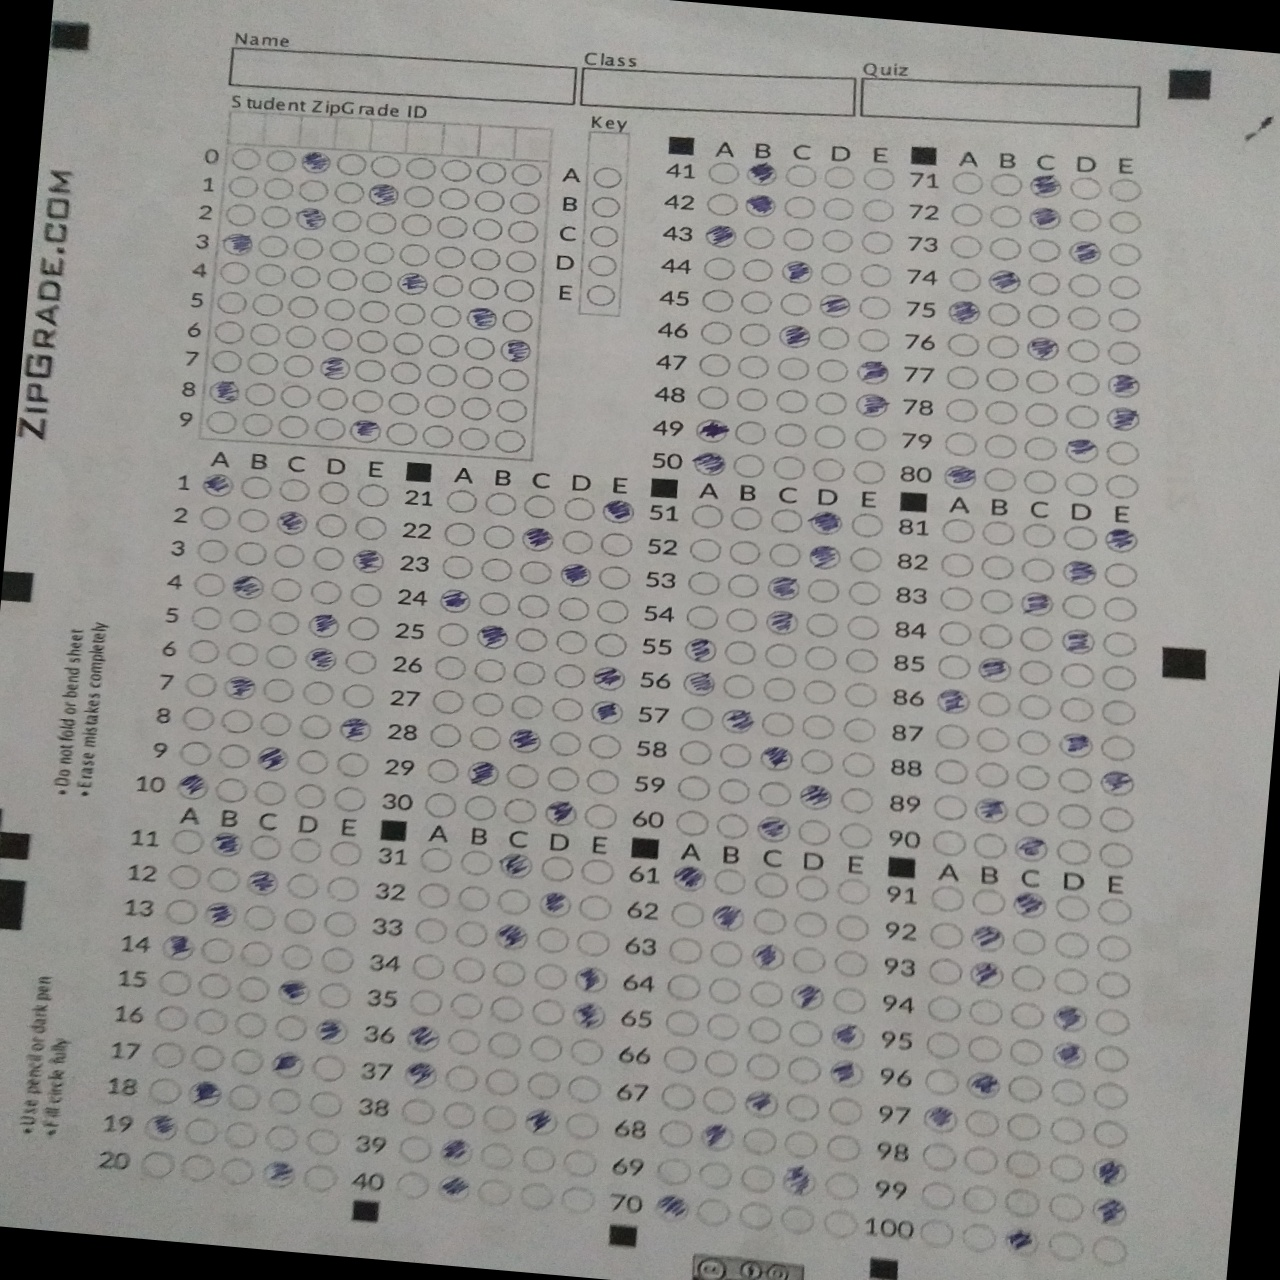not-c: (998, 1183, 1042, 1221), (1090, 1005, 1138, 1039), (922, 918, 971, 952), (958, 1217, 1000, 1255), (655, 1077, 700, 1114), (915, 1138, 960, 1175), (141, 1070, 184, 1107), (651, 1153, 695, 1189), (1043, 1228, 1088, 1264), (1090, 1041, 1136, 1075), (512, 1178, 559, 1211), (389, 1165, 431, 1201), (915, 1176, 958, 1212), (663, 896, 707, 931), (829, 982, 872, 1017), (1042, 1189, 1085, 1224), (557, 1182, 601, 1216), (818, 1206, 863, 1240), (1087, 1233, 1131, 1267), (921, 952, 966, 986), (1095, 695, 1139, 729), (1060, 400, 1105, 433), (915, 1213, 956, 1250), (137, 1146, 179, 1182), (474, 1141, 520, 1172), (920, 1026, 962, 1061), (1094, 837, 1136, 872), (1044, 1151, 1088, 1185), (964, 1030, 1007, 1064), (925, 881, 969, 914), (1046, 1111, 1087, 1146), (783, 1090, 825, 1124), (737, 1162, 779, 1196), (477, 1102, 520, 1135), (1048, 927, 1091, 960), (673, 735, 717, 767), (1001, 1110, 1046, 1142), (959, 1179, 998, 1216), (306, 1085, 346, 1121), (822, 1166, 862, 1201), (145, 1037, 186, 1071), (393, 1132, 434, 1166), (395, 1092, 436, 1126), (661, 968, 702, 1002), (693, 1194, 734, 1228), (1089, 1115, 1130, 1149), (1008, 1034, 1049, 1068), (922, 990, 964, 1024), (821, 1132, 866, 1163), (224, 1081, 266, 1114), (403, 985, 445, 1017), (559, 1146, 601, 1179), (785, 1015, 828, 1048), (653, 1116, 695, 1149), (1092, 969, 1135, 1002), (935, 549, 978, 581), (937, 427, 979, 459), (926, 826, 969, 858), (271, 1009, 311, 1043), (783, 1051, 823, 1085), (694, 1158, 734, 1192), (777, 1201, 817, 1235), (308, 1050, 349, 1083), (561, 1108, 602, 1141), (700, 1046, 741, 1078), (658, 1042, 699, 1075), (1054, 693, 1095, 726), (572, 927, 614, 959), (852, 291, 894, 322), (842, 611, 884, 642), (749, 870, 791, 901), (928, 754, 971, 785), (1058, 522, 1101, 553), (917, 1065, 960, 1096), (314, 978, 353, 1012), (188, 1040, 226, 1074), (960, 1142, 999, 1176), (567, 1034, 607, 1067), (525, 1032, 565, 1064), (692, 379, 731, 411), (673, 770, 713, 803), (791, 908, 831, 941), (1091, 1078, 1131, 1111), (1094, 931, 1133, 964), (151, 1000, 192, 1032), (414, 844, 455, 876), (492, 884, 533, 915), (483, 1028, 524, 1060), (564, 1074, 605, 1105), (474, 1176, 515, 1207), (836, 782, 877, 813), (670, 805, 712, 837), (745, 978, 787, 1009), (779, 1128, 821, 1159), (1001, 1148, 1042, 1179), (965, 994, 1006, 1026), (1014, 622, 1055, 654), (974, 619, 1015, 651), (935, 515, 978, 545), (826, 1094, 864, 1128), (301, 1162, 340, 1194), (445, 1024, 484, 1057), (745, 1013, 784, 1046), (736, 1199, 775, 1232), (1009, 998, 1048, 1030), (222, 1118, 261, 1150), (578, 856, 618, 887), (527, 996, 567, 1028), (437, 1097, 477, 1129), (847, 509, 887, 540), (750, 905, 790, 937), (961, 1107, 1001, 1138), (1047, 1076, 1087, 1108), (1013, 797, 1053, 829), (931, 720, 971, 751), (1099, 733, 1139, 764), (302, 1126, 343, 1157), (409, 914, 450, 945), (812, 324, 853, 354), (770, 418, 811, 449), (704, 938, 745, 968), (663, 934, 704, 965), (1010, 761, 1051, 791), (972, 724, 1013, 755), (1099, 629, 1141, 660), (1058, 591, 1099, 621), (942, 263, 983, 293), (1053, 765, 1095, 795), (1019, 465, 1061, 495), (229, 1043, 266, 1076), (182, 1114, 219, 1146), (263, 1122, 300, 1155), (703, 1008, 741, 1041), (701, 1083, 738, 1116), (284, 869, 322, 900), (164, 860, 203, 892), (195, 969, 233, 1001), (179, 1151, 218, 1183), (714, 774, 753, 805), (836, 819, 874, 851), (743, 1050, 782, 1082), (1054, 801, 1092, 832), (935, 651, 974, 682), (225, 142, 265, 172), (486, 993, 526, 1023), (740, 1125, 779, 1156), (1005, 1074, 1044, 1104), (968, 831, 1008, 862), (930, 790, 969, 821), (972, 758, 1012, 789), (1014, 658, 1054, 688), (1104, 338, 1144, 368), (942, 329, 982, 360), (849, 457, 890, 486), (1098, 662, 1139, 692), (1017, 556, 1058, 585), (1099, 560, 1141, 590), (234, 972, 271, 1005), (192, 1006, 230, 1037), (266, 1084, 304, 1116), (218, 1155, 256, 1186), (489, 956, 526, 988), (409, 949, 447, 981), (772, 386, 810, 417), (843, 644, 880, 675), (714, 809, 751, 840), (663, 1007, 701, 1039), (1055, 837, 1092, 869), (982, 429, 1020, 461), (1063, 205, 1105, 233), (211, 286, 250, 316), (230, 1008, 268, 1039), (448, 990, 486, 1021), (442, 1063, 481, 1094), (483, 1065, 522, 1096), (735, 350, 774, 381), (809, 452, 847, 483), (794, 816, 832, 846), (791, 872, 830, 903), (835, 874, 873, 905), (835, 912, 873, 942), (706, 974, 744, 1005), (1008, 964, 1047, 994), (971, 886, 1009, 917), (1095, 896, 1133, 926), (979, 552, 1017, 583), (1020, 518, 1058, 549), (1020, 434, 1058, 464), (981, 395, 1020, 425), (1022, 367, 1061, 397), (1105, 305, 1144, 335), (207, 316, 247, 346), (287, 835, 327, 864), (831, 948, 871, 978), (1051, 893, 1091, 922), (1057, 660, 1097, 689), (935, 584, 975, 613), (1063, 368, 1103, 397), (199, 933, 234, 966), (697, 253, 738, 281), (1099, 594, 1141, 622), (456, 881, 492, 913), (450, 953, 486, 985), (791, 944, 828, 975), (937, 617, 973, 648), (319, 944, 356, 974), (576, 892, 613, 922), (533, 924, 571, 954), (520, 1144, 558, 1175), (769, 451, 806, 482), (840, 679, 878, 709), (1051, 965, 1089, 995), (1009, 926, 1047, 956), (1103, 470, 1141, 501), (1064, 334, 1102, 365), (1024, 300, 1062, 331), (585, 765, 624, 795), (530, 961, 568, 990), (525, 1070, 564, 1099), (694, 348, 733, 377), (851, 423, 890, 452), (687, 501, 726, 530), (799, 712, 838, 741), (838, 749, 877, 778), (755, 778, 794, 808), (979, 517, 1017, 546), (942, 394, 981, 423), (1107, 273, 1145, 302), (1024, 234, 1063, 264), (702, 158, 742, 186), (1065, 271, 1105, 299), (985, 234, 1024, 263), (1107, 176, 1146, 204), (238, 939, 274, 969), (859, 195, 896, 225), (775, 353, 811, 383), (717, 738, 754, 769), (1063, 467, 1099, 497), (1065, 302, 1102, 333), (1107, 238, 1143, 268), (695, 319, 736, 346), (581, 802, 619, 831), (325, 874, 362, 904), (204, 865, 241, 894), (452, 919, 490, 948), (758, 709, 796, 738), (709, 866, 747, 896), (974, 689, 1012, 719), (986, 299, 1023, 328), (946, 231, 983, 260), (987, 202, 1024, 231), (986, 169, 1023, 198), (946, 166, 983, 196), (413, 881, 451, 910), (859, 164, 898, 192), (856, 260, 894, 288), (983, 365, 1022, 393), (281, 905, 316, 935), (1098, 805, 1133, 836), (948, 198, 983, 229), (425, 331, 462, 360), (241, 903, 278, 932), (457, 847, 493, 877), (811, 389, 847, 418), (798, 745, 835, 775), (1022, 399, 1058, 428), (503, 217, 540, 245), (702, 190, 740, 218), (779, 225, 817, 253), (858, 229, 896, 257), (699, 285, 736, 313), (776, 290, 813, 318), (1016, 728, 1054, 756), (1015, 692, 1053, 720), (1026, 268, 1063, 297), (537, 855, 576, 881), (279, 940, 313, 971), (328, 206, 363, 236), (547, 728, 583, 757), (165, 897, 200, 926), (821, 226, 856, 256), (842, 715, 877, 744), (726, 537, 762, 565), (587, 731, 624, 760), (424, 791, 461, 819), (728, 503, 764, 531), (944, 363, 980, 392), (817, 260, 855, 287), (768, 508, 805, 535), (799, 678, 837, 704), (978, 587, 1015, 614), (1105, 440, 1143, 467), (855, 327, 893, 353), (493, 396, 529, 424), (340, 681, 375, 709), (322, 910, 358, 938), (821, 195, 856, 223), (474, 159, 510, 186), (501, 277, 537, 304), (428, 302, 464, 329), (740, 256, 776, 282), (813, 356, 850, 383), (983, 333, 1021, 359), (1067, 175, 1104, 200), (157, 968, 190, 998), (256, 231, 290, 259), (282, 322, 316, 350), (505, 762, 539, 790), (738, 288, 772, 316), (731, 450, 765, 478), (402, 154, 437, 181), (472, 188, 508, 215), (363, 207, 399, 234), (397, 241, 433, 268), (585, 251, 620, 278), (456, 424, 491, 451), (767, 542, 802, 568), (737, 321, 772, 348), (734, 384, 769, 411), (400, 183, 436, 209), (1107, 209, 1143, 234), (292, 233, 324, 263), (251, 290, 284, 318), (782, 163, 819, 188), (734, 417, 767, 445), (263, 147, 297, 173), (368, 152, 402, 179), (261, 173, 295, 200), (469, 215, 503, 241), (286, 293, 320, 320), (315, 384, 349, 411), (350, 387, 384, 414), (387, 389, 421, 416), (423, 392, 457, 418), (282, 352, 316, 379), (203, 408, 237, 435), (425, 361, 459, 388), (388, 358, 422, 384), (392, 331, 425, 358), (482, 523, 516, 550), (275, 477, 309, 504), (443, 520, 477, 547), (316, 479, 350, 506), (195, 537, 229, 564), (233, 539, 267, 566), (272, 542, 306, 568), (353, 515, 387, 542), (313, 511, 347, 538), (561, 496, 595, 523), (483, 490, 517, 517), (420, 423, 454, 450), (275, 411, 309, 438), (356, 482, 390, 509), (444, 488, 478, 515), (313, 415, 347, 442), (311, 544, 345, 571), (198, 504, 232, 531), (560, 529, 594, 556), (308, 578, 342, 605), (268, 576, 302, 602), (595, 563, 629, 590), (600, 531, 634, 558), (689, 536, 723, 563), (595, 597, 629, 624), (477, 590, 511, 617), (515, 625, 549, 652), (436, 621, 470, 648), (593, 631, 627, 658), (479, 556, 513, 583), (519, 558, 553, 585), (806, 576, 840, 602), (804, 611, 838, 638), (685, 602, 719, 629), (726, 571, 760, 598), (687, 568, 721, 595), (189, 604, 223, 631), (227, 606, 261, 633), (191, 571, 225, 598), (433, 654, 467, 681), (261, 676, 295, 703), (301, 679, 335, 706), (188, 636, 222, 663), (225, 640, 259, 667), (343, 648, 377, 675), (264, 644, 298, 670), (847, 579, 881, 606), (220, 707, 254, 734), (257, 709, 291, 736), (183, 670, 217, 697), (849, 546, 883, 573), (803, 644, 837, 670), (763, 641, 797, 668), (721, 672, 755, 699), (722, 638, 756, 665), (517, 591, 551, 618), (431, 687, 465, 714), (425, 757, 459, 784), (509, 693, 543, 720), (680, 704, 714, 731), (546, 764, 580, 791), (428, 722, 462, 749), (512, 659, 546, 686), (762, 676, 796, 703), (333, 785, 367, 812), (252, 779, 286, 806), (504, 797, 538, 824), (464, 794, 498, 821), (335, 750, 369, 777), (328, 840, 362, 867), (170, 828, 204, 855), (177, 738, 211, 765), (812, 422, 846, 449), (438, 157, 474, 183), (216, 259, 251, 285), (587, 223, 622, 248), (520, 493, 556, 519), (383, 420, 418, 445), (822, 164, 857, 190), (981, 467, 1016, 492), (224, 200, 257, 227), (328, 236, 361, 263), (253, 261, 286, 288), (325, 265, 358, 292), (584, 281, 617, 308), (355, 327, 388, 354), (463, 335, 496, 362), (353, 356, 386, 383), (182, 704, 215, 731), (510, 162, 544, 188), (226, 172, 260, 198), (333, 179, 367, 205), (434, 213, 468, 239), (433, 244, 467, 270), (504, 248, 538, 274), (288, 264, 322, 290), (322, 297, 356, 322), (358, 298, 392, 324), (393, 300, 427, 326), (499, 307, 533, 333), (278, 383, 312, 409), (459, 395, 493, 421), (459, 365, 493, 390), (495, 367, 529, 393), (246, 350, 280, 376), (209, 348, 243, 374), (240, 411, 274, 437), (492, 427, 526, 452), (239, 474, 273, 499), (236, 508, 270, 533), (241, 381, 275, 407), (441, 554, 475, 580), (346, 614, 380, 640), (349, 581, 383, 607), (554, 628, 588, 654), (556, 595, 590, 621), (726, 607, 760, 633), (267, 610, 301, 635), (298, 713, 332, 738), (471, 692, 505, 717), (550, 696, 584, 722), (468, 726, 502, 751), (474, 658, 508, 683), (552, 663, 586, 689), (213, 777, 247, 803), (293, 783, 327, 809), (297, 749, 331, 775), (247, 835, 281, 860), (216, 743, 250, 769), (782, 195, 816, 220), (743, 224, 777, 250), (430, 273, 465, 298), (258, 203, 290, 230), (591, 163, 622, 190), (438, 185, 471, 211), (400, 211, 433, 237), (359, 268, 392, 294), (297, 178, 331, 203), (588, 195, 622, 219), (318, 326, 352, 350), (509, 190, 542, 215), (468, 247, 501, 272), (467, 275, 499, 300), (248, 321, 281, 346), (363, 240, 395, 265), (333, 152, 366, 176)
taken-c: (1087, 1192, 1131, 1228), (778, 1162, 819, 1199), (962, 1065, 1006, 1101), (1087, 1153, 1129, 1189), (1048, 1039, 1091, 1073), (787, 979, 828, 1014), (920, 1101, 961, 1136), (1001, 1223, 1042, 1258), (741, 1085, 781, 1121), (697, 1119, 737, 1155), (139, 1110, 181, 1144), (1050, 1001, 1091, 1035), (966, 958, 1008, 990), (1054, 729, 1097, 761), (522, 1105, 561, 1139), (492, 919, 532, 953), (708, 900, 748, 934), (829, 1019, 869, 1053), (652, 1191, 692, 1225), (1058, 556, 1099, 588), (1009, 888, 1050, 921), (158, 931, 198, 964), (436, 1136, 476, 1169), (400, 1058, 440, 1091), (669, 863, 710, 894), (1097, 768, 1138, 799), (967, 922, 1008, 954), (939, 462, 981, 492), (749, 939, 787, 973), (568, 1000, 608, 1032), (985, 265, 1024, 297), (972, 795, 1012, 826), (1012, 833, 1051, 865), (200, 899, 241, 930), (826, 1056, 867, 1087), (573, 964, 611, 996), (935, 685, 973, 717), (259, 1158, 298, 1190), (404, 1022, 443, 1054), (496, 850, 535, 881), (1058, 626, 1097, 658), (975, 653, 1014, 685), (184, 1078, 224, 1109), (1024, 171, 1065, 200), (271, 1048, 308, 1080), (543, 797, 581, 828), (806, 542, 845, 572), (796, 781, 835, 811), (755, 813, 794, 844), (1065, 237, 1104, 267), (1063, 435, 1102, 465), (434, 1172, 474, 1201), (1017, 588, 1057, 618), (1103, 406, 1144, 434), (1101, 526, 1142, 554), (599, 496, 636, 526), (719, 704, 756, 735), (243, 866, 280, 897), (275, 978, 313, 1008), (313, 1015, 350, 1046), (537, 888, 574, 919), (472, 621, 511, 651), (806, 508, 845, 537), (853, 358, 892, 387), (702, 222, 741, 251), (692, 417, 731, 445), (851, 390, 891, 418), (338, 714, 374, 744), (506, 726, 543, 756), (692, 448, 728, 478), (1107, 369, 1143, 400), (758, 743, 796, 772), (776, 321, 813, 350), (945, 297, 982, 326), (1023, 333, 1061, 362), (590, 663, 628, 692), (199, 470, 236, 499), (306, 611, 342, 640), (222, 672, 258, 701), (519, 524, 556, 553), (558, 559, 594, 588), (467, 758, 503, 788), (763, 607, 799, 636), (350, 547, 388, 576), (173, 772, 211, 801), (588, 697, 626, 726), (765, 574, 803, 602), (681, 636, 719, 665), (680, 669, 717, 697), (742, 191, 779, 219), (1026, 204, 1063, 232), (815, 292, 853, 319), (302, 645, 338, 674), (497, 336, 533, 365), (273, 508, 309, 536), (437, 586, 474, 614), (365, 181, 402, 207), (254, 745, 290, 774), (779, 258, 815, 286), (744, 159, 779, 188), (207, 830, 244, 857), (297, 148, 332, 175), (293, 204, 328, 231), (206, 377, 241, 404), (348, 418, 383, 445), (219, 231, 256, 257), (229, 573, 265, 599), (395, 268, 428, 297), (316, 355, 352, 381), (464, 305, 497, 332)
